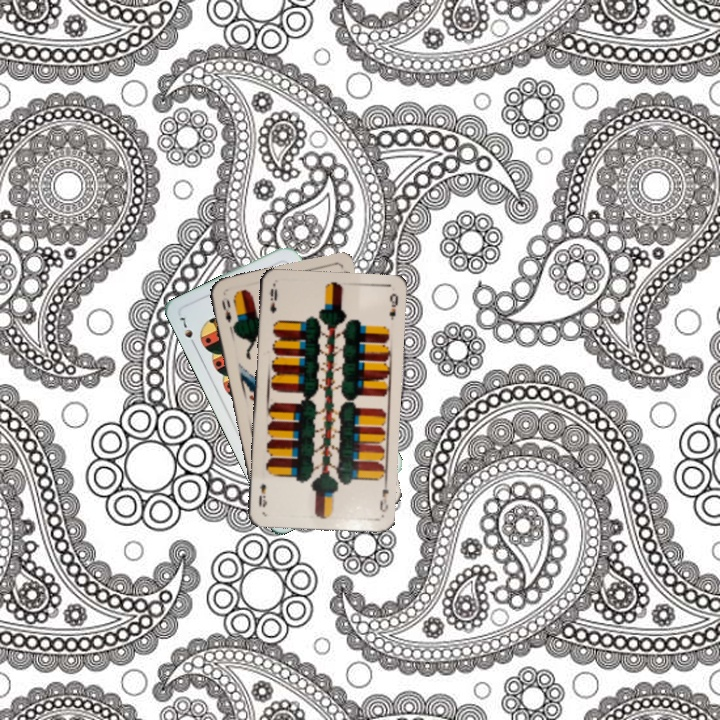E9: (376, 477, 391, 515), (266, 283, 280, 316)
EO: (217, 296, 234, 325)
S7: (175, 313, 198, 350)
